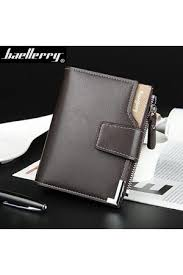monedero: (35, 67, 153, 207)
